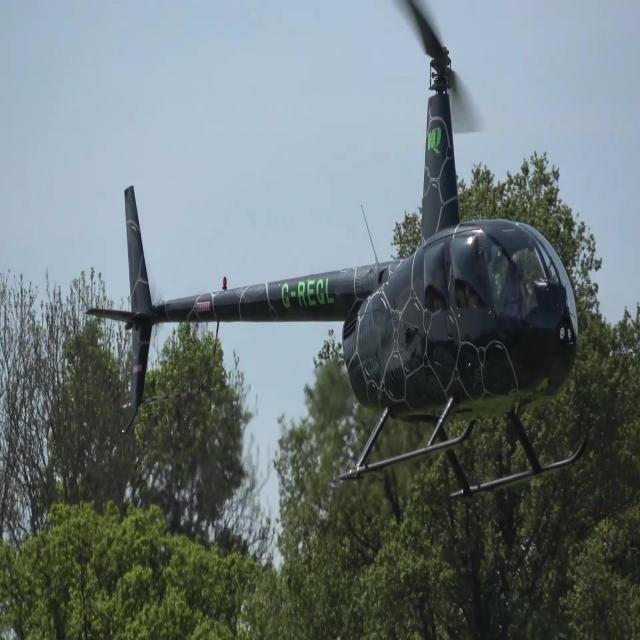CIV_HELO: (84, 50, 586, 502)
